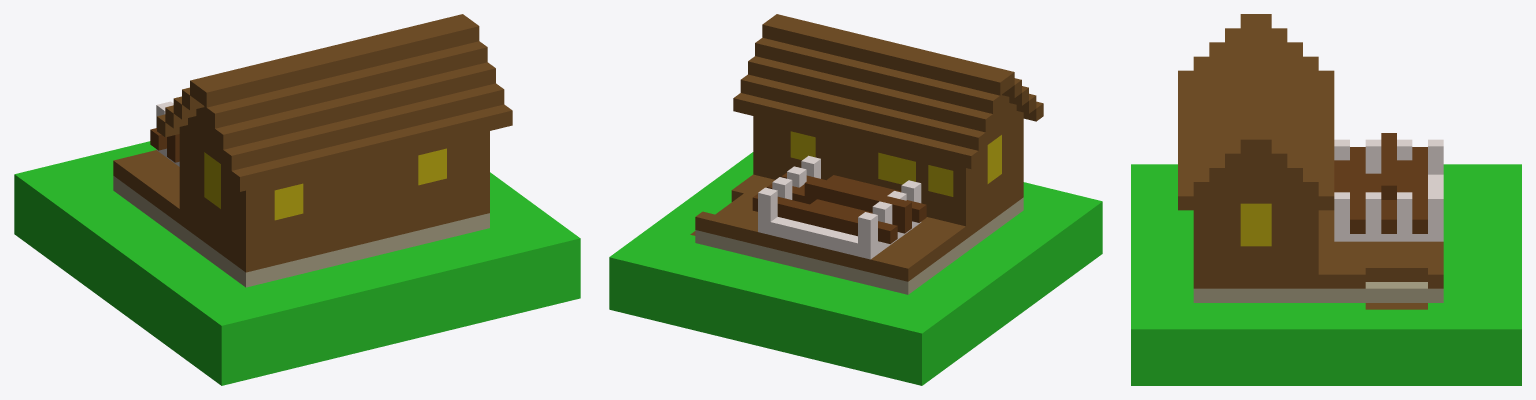
File: lumber.obj
3 views of the same model, side by side, from view 1: azimuth 30°, elevation 25°; view 2: azimuth 150°, elevation 25°; view 3: azimuth 270°, elevation 25° (orthographic). The views are drawn at different scales.
Bounding box in the file's own units: 2.5 × 1.6 × 2.5.
Materials: 1 (1 with a texture image).
